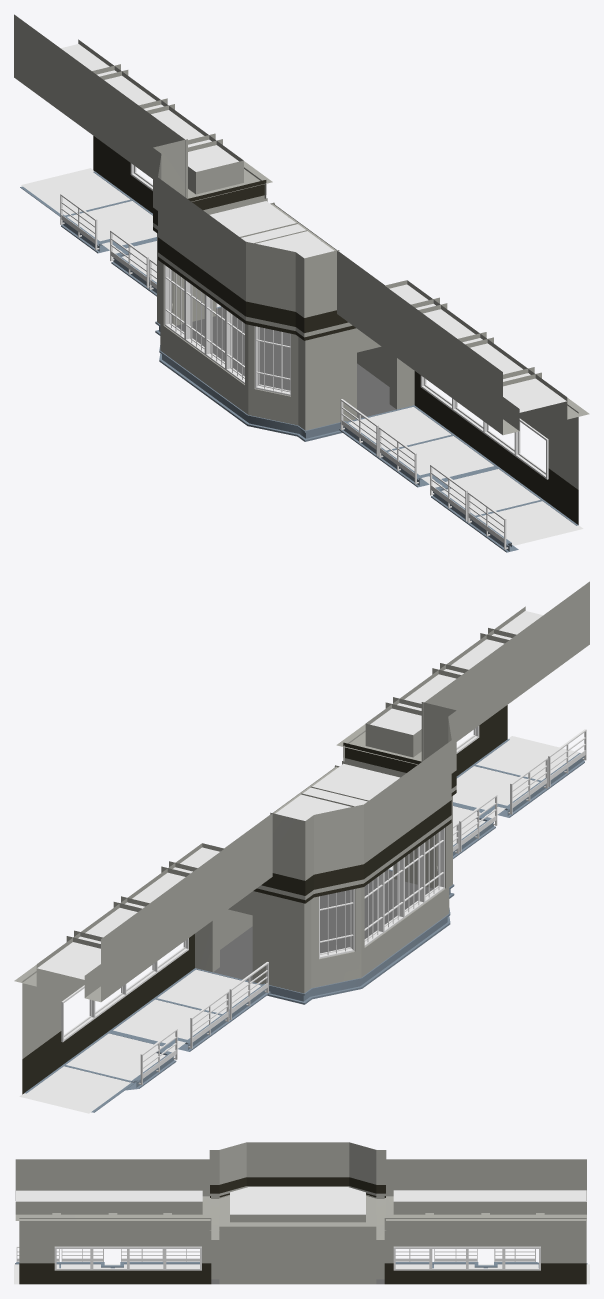
The model's file is SM_H_Building_Tide_Canteen_03_ATLAS.fbx.
3 views of the same model, one above another, from view 1: azimuth 30°, elevation 25°; view 2: azimuth 150°, elevation 25°; view 3: azimuth 270°, elevation 25° (orthographic). The views are drawn at different scales.
Parts seen in each view (by area): view 1: SM_H_Building_Tide_Canteen_03_ATLAS; view 2: SM_H_Building_Tide_Canteen_03_ATLAS; view 3: SM_H_Building_Tide_Canteen_03_ATLAS.
Boxes of the visible parts, left/top/right/bottom form: SM_H_Building_Tide_Canteen_03_ATLAS: left=14, top=14, right=589, bottom=552; SM_H_Building_Tide_Canteen_03_ATLAS: left=14, top=581, right=589, bottom=1113; SM_H_Building_Tide_Canteen_03_ATLAS: left=14, top=1142, right=589, bottom=1284.
Size of the model in its own units: 590 by 3436 by 730.
